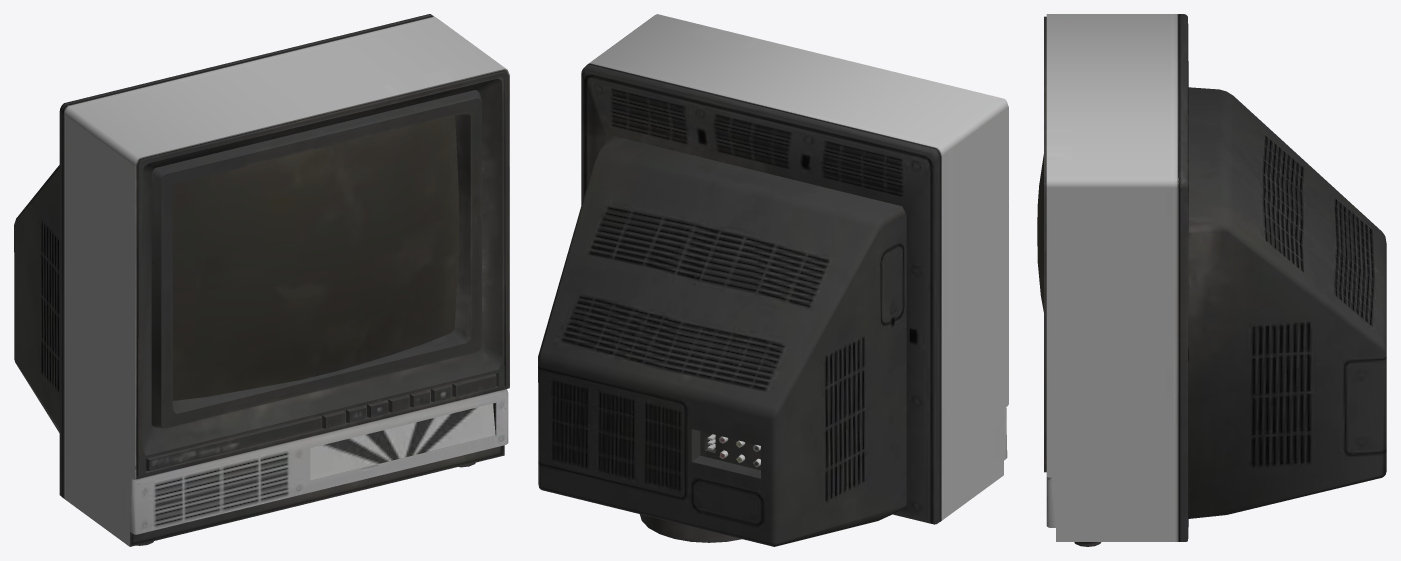
The model's file is television.glb.
The picture shows the model from 3 angles, left to right: view 1: azimuth 30°, elevation 25°; view 2: azimuth 150°, elevation 25°; view 3: azimuth 270°, elevation 25°; orthographic projection. The views are drawn at different scales.
Visible parts, largest first — view 1: television_02, television_02_screen; view 2: television_02; view 3: television_02, television_02_screen.
Part boxes in pixels (bbox=[...]): television_02: bbox=[14, 14, 509, 546]; television_02_screen: bbox=[172, 115, 459, 400]; television_02: bbox=[538, 14, 1008, 546]; television_02: bbox=[1044, 14, 1386, 546]; television_02_screen: bbox=[1037, 154, 1043, 311].
Bounding box in the file's own units: 0.3998 × 0.4108 × 0.3495.
2 materials, 2 textured.
